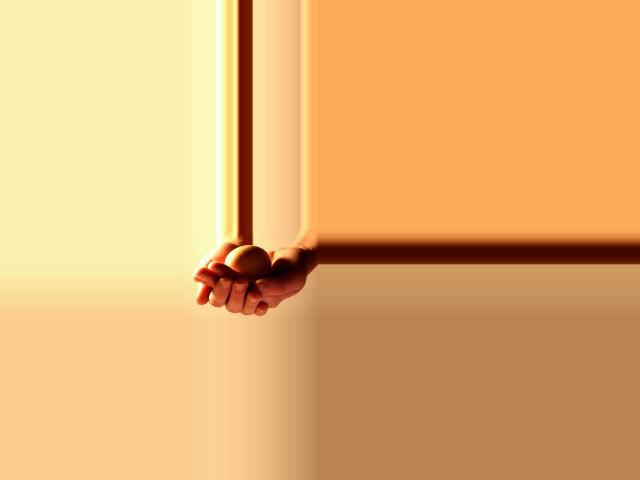egg: (225, 245, 272, 277)
